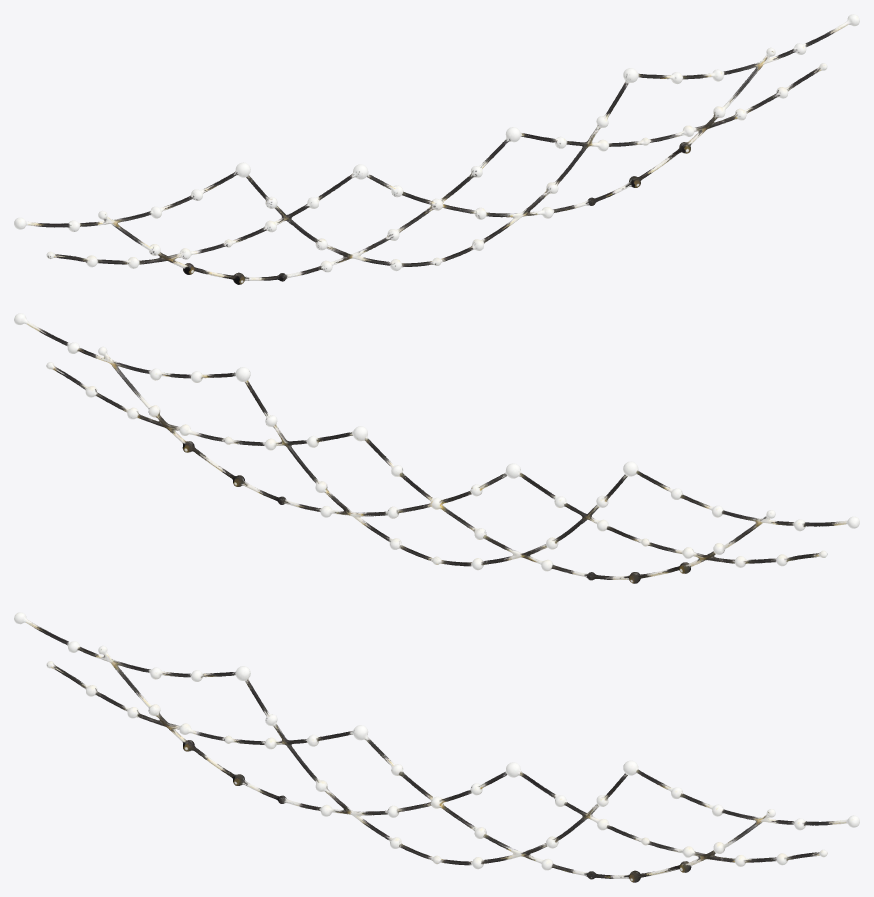
File: lights copy.glb
3 views of the same model, one above another, from view 1: azimuth 30°, elevation 25°; view 2: azimuth 150°, elevation 25°; view 3: azimuth 330°, elevation 25° (orthographic).
Bounding box in the file's own units: 1.9 × 0.3221 × 0.0304.
1 material, 1 textured.
